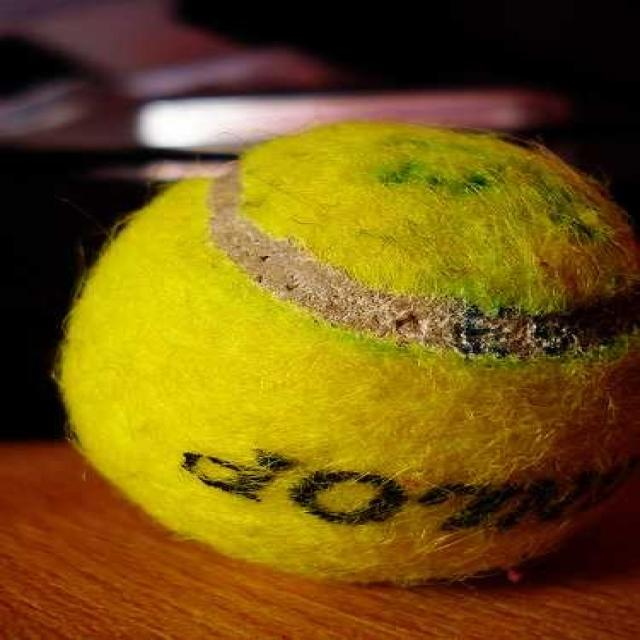Tennis_Ball: (53, 129, 640, 576)
